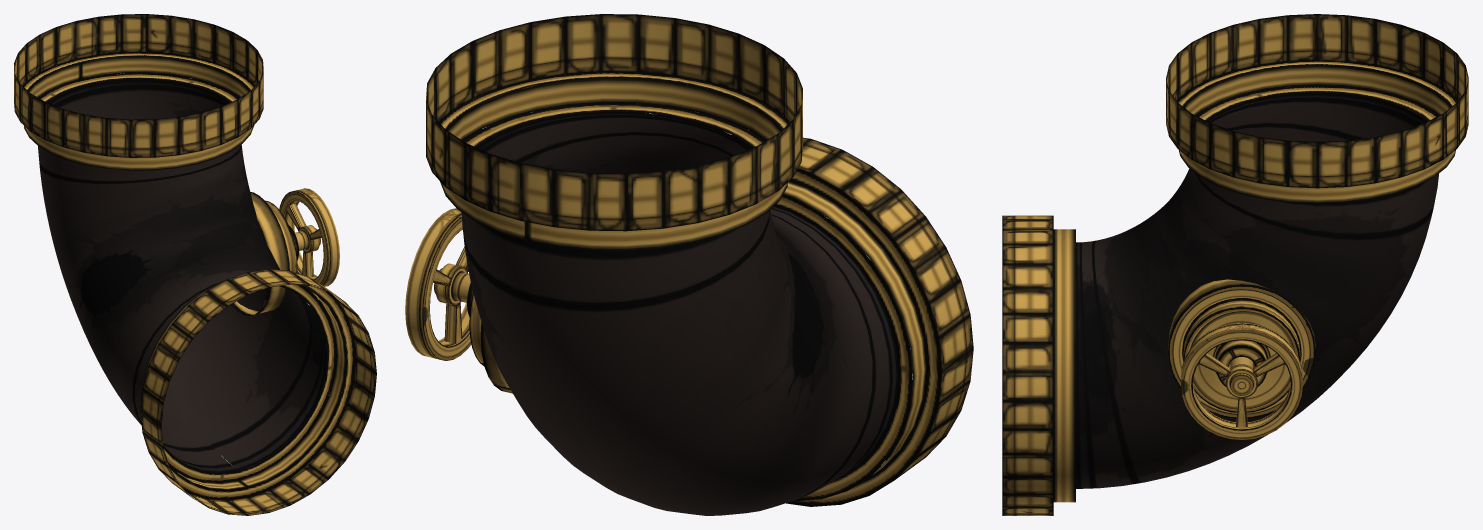
Rendered from bigpipe.fbx.
3 renders of one model, left to right at view 1: azimuth 30°, elevation 25°; view 2: azimuth 150°, elevation 25°; view 3: azimuth 270°, elevation 25°, orthographic. The views are drawn at different scales.
Visible parts, largest first — view 1: Cylinder, Cylinder.002, Cylinder.001; view 2: Cylinder, Cylinder.002, Cylinder.001; view 3: Cylinder, Cylinder.001, Cylinder.002.
Boxes of the visible parts, left/top/right/bottom form: Cylinder: left=14, top=14, right=376, bottom=515; Cylinder.002: left=279, top=188, right=339, bottom=286; Cylinder.001: left=230, top=192, right=298, bottom=315; Cylinder: left=426, top=14, right=973, bottom=515; Cylinder.002: left=405, top=208, right=471, bottom=360; Cylinder.001: left=467, top=282, right=512, bottom=393; Cylinder: left=1002, top=14, right=1468, bottom=515; Cylinder.001: left=1168, top=279, right=1315, bottom=418; Cylinder.002: left=1181, top=322, right=1302, bottom=439.
Size of the model in its own units: 288 by 379 by 378.
